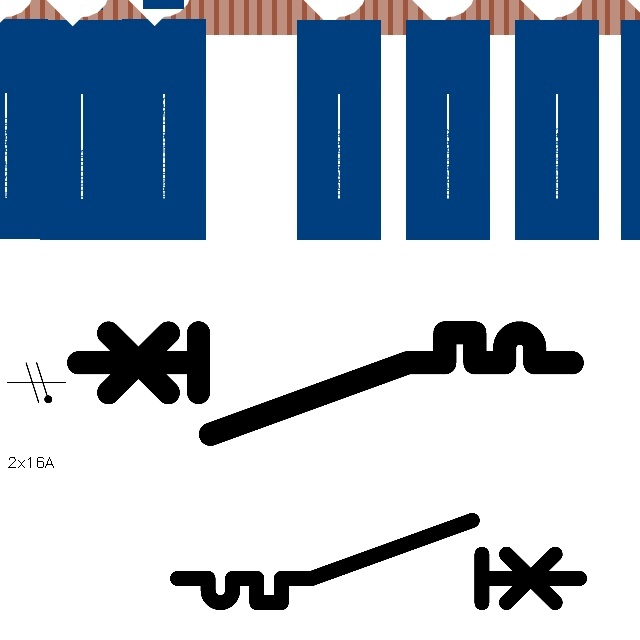interruptor_termomagnetico: (65, 320, 584, 447), (167, 510, 589, 613)
